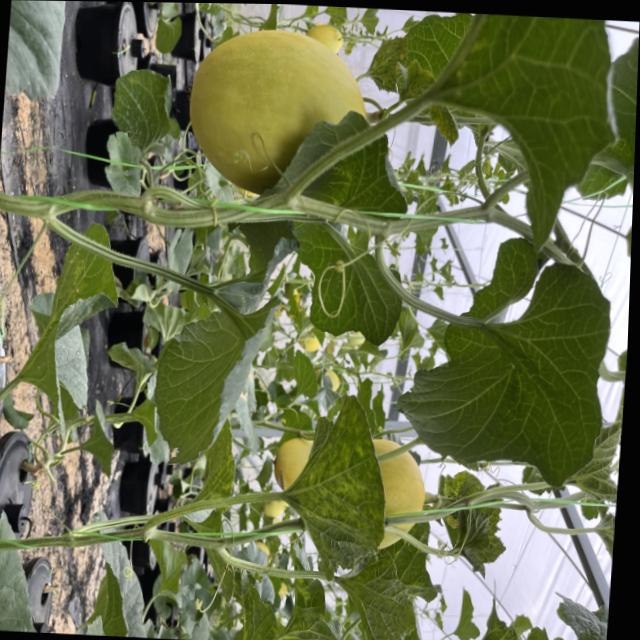CMV: (292, 388, 392, 583), (433, 468, 513, 574), (349, 549, 422, 640), (469, 588, 539, 640), (363, 28, 409, 96), (518, 632, 575, 640)
SLCV: (549, 590, 609, 640)
downy mildew: (17, 219, 124, 436), (285, 390, 394, 582), (283, 565, 339, 640), (235, 579, 280, 640)
healthy: (387, 245, 621, 501), (152, 301, 262, 462), (294, 216, 412, 352), (108, 63, 177, 158), (93, 538, 154, 638)
